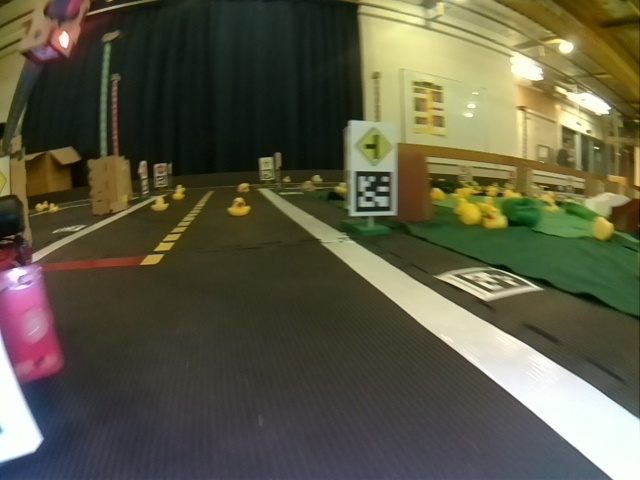Duckie: (459, 200, 481, 226), (228, 197, 251, 216), (486, 211, 507, 228), (152, 197, 168, 211), (171, 187, 185, 199), (337, 182, 347, 192), (311, 174, 321, 183), (49, 204, 58, 213), (240, 185, 250, 192)
Intersection sign: (351, 122, 396, 167)
QR code: (436, 266, 544, 300), (350, 169, 397, 216)
Traffic light: (24, 1, 89, 64)
